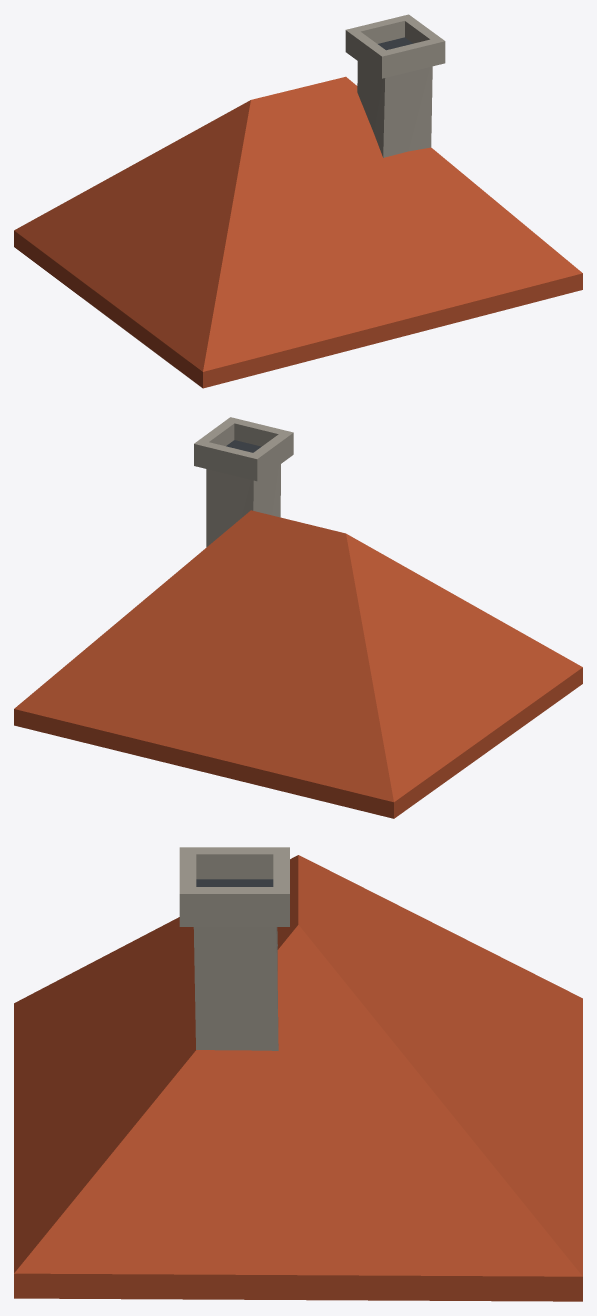
The model's file is house_roof_c.glb.
3 views of the same model, one above another, from view 1: azimuth 30°, elevation 25°; view 2: azimuth 150°, elevation 25°; view 3: azimuth 270°, elevation 25° (orthographic). The views are drawn at different scales.
Parts seen in each view (by area): view 1: house_roof_c; view 2: house_roof_c; view 3: house_roof_c.
Boxes of the visible parts, bbox=[...] form: house_roof_c: bbox=[14, 14, 582, 388]; house_roof_c: bbox=[14, 417, 582, 818]; house_roof_c: bbox=[14, 847, 582, 1301].
Size of the model in its own units: 0.72 by 0.4245 by 0.62.
